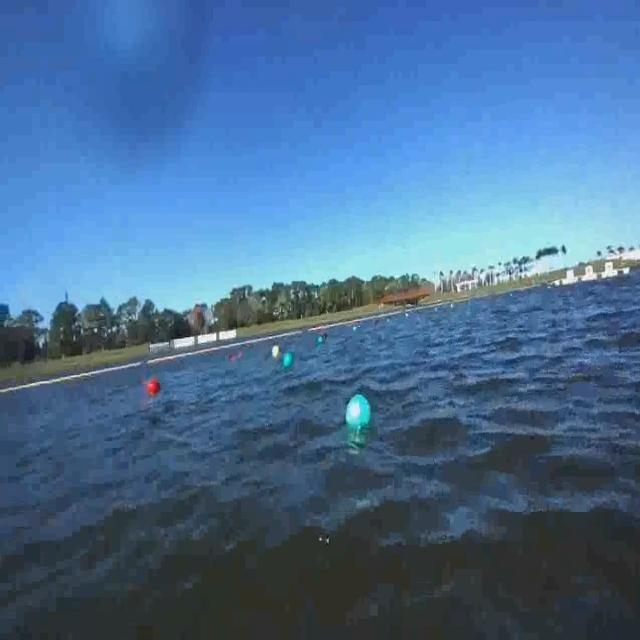green-buoy: (346, 394, 372, 432), (282, 351, 295, 370)
red-buoy: (146, 379, 161, 396)
yellow-buoy: (272, 345, 280, 358)
